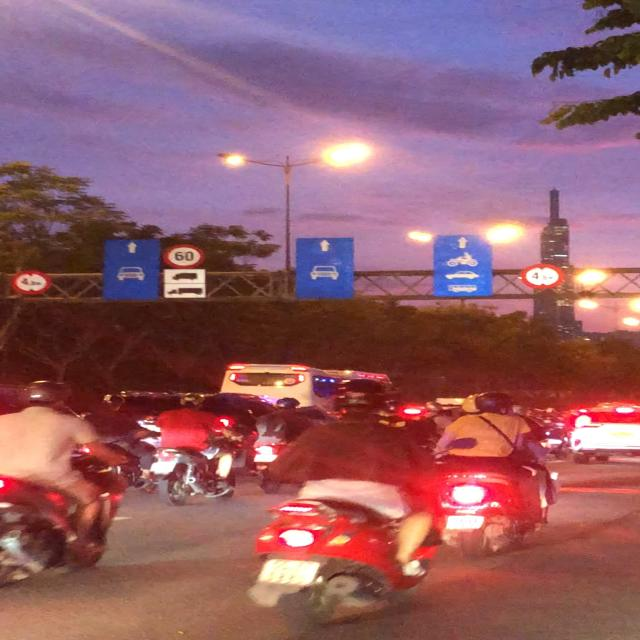Bien bao han che chieu cao: (515, 260, 567, 291), (7, 269, 57, 297)
Bien bao toc do toi da cho phep: (158, 243, 204, 268)
